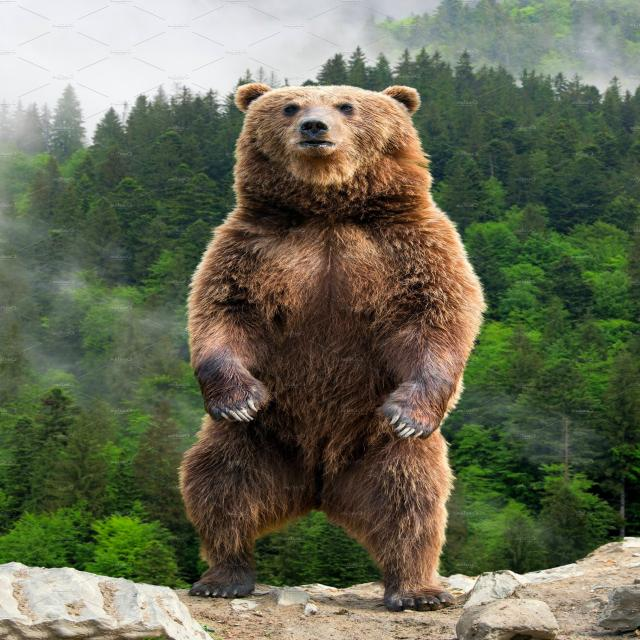bear: (181, 83, 485, 610)
